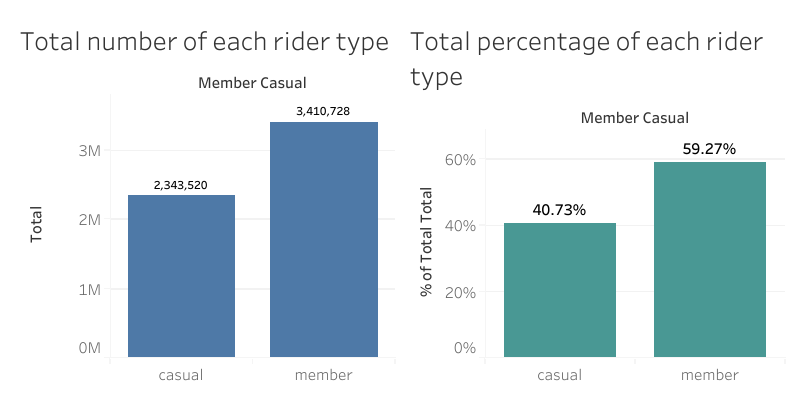

This screenshot's page, from the dashboard's own definition file:
{"tool":"tableau","page":{"name":"Dashboard 1","canvas":[1000,1000],"units":"permille","ordinal":0},"visuals":[{"type":"worksheet","title":"Sheet 1","mark":"Automatic","rows":["total"],"cols":["member_casual"],"box":[4.8,9.3,495.2,981.4]},{"type":"worksheet","title":"Sheet 2","mark":"Automatic","rows":["total"],"cols":["member_casual"],"box":[500,9.3,495.2,981.4]}]}

Visuals, with their boxes on the dashboard's canvas, which has no fixed pixel size, in thousandths of its width and height (x1, y1, x2, y2). These are canvas units, not pixel positions in the 799x399 screenshot, which may show the page scaled, cropped or inside an application window:
"Sheet 1" worksheet: select_region(5, 9, 500, 991)
"Sheet 2" worksheet: select_region(500, 9, 995, 991)
